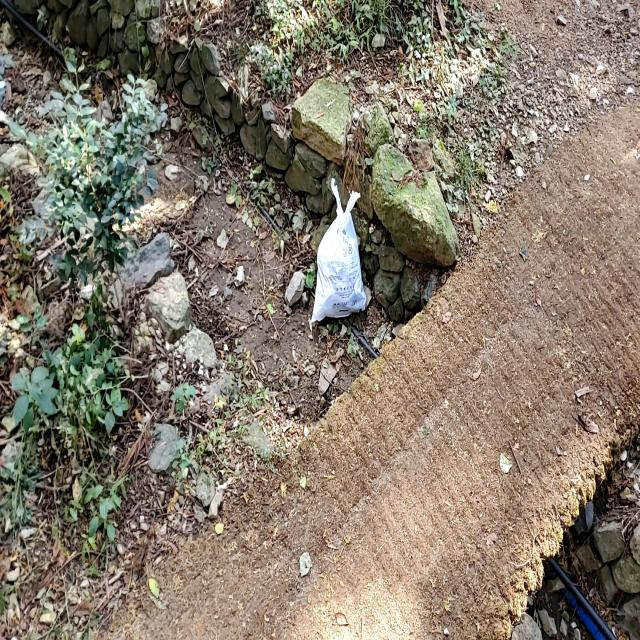garbage bag: (310, 176, 367, 326)
